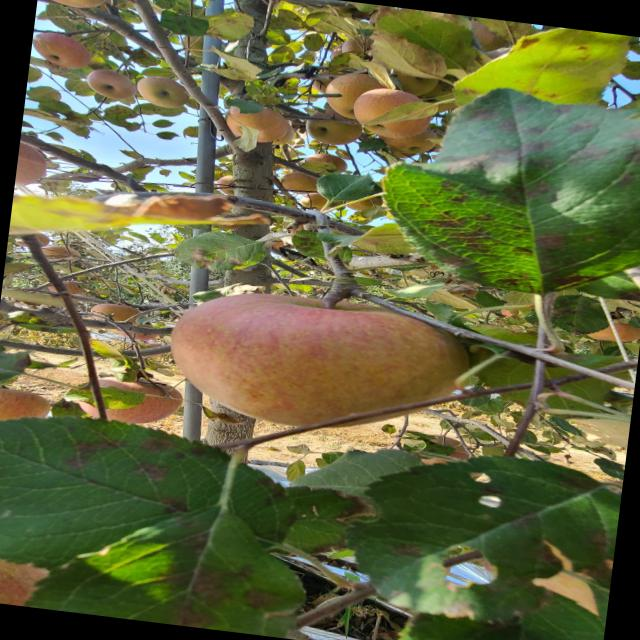fresh: (142, 278, 480, 457)
